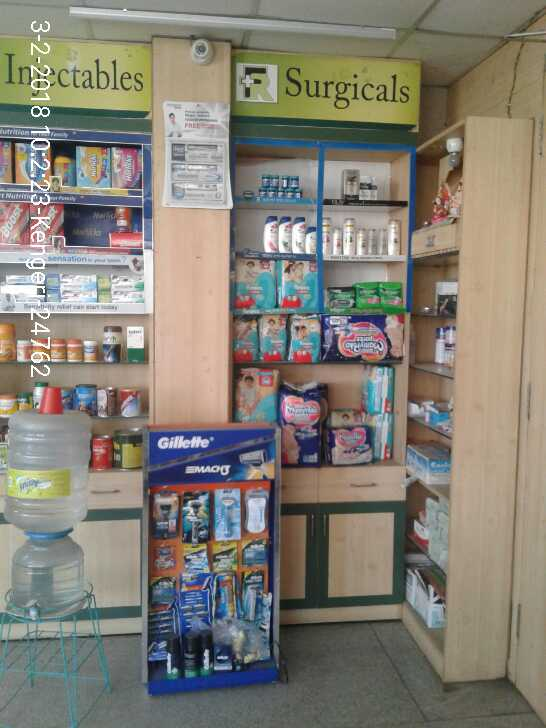beauty: (322, 208, 406, 262), (175, 490, 208, 540), (339, 158, 375, 201), (176, 576, 205, 629), (293, 212, 320, 268), (214, 485, 245, 533), (255, 204, 279, 256), (149, 490, 174, 535), (219, 567, 234, 626), (282, 211, 292, 252)
pharmacy: (274, 254, 317, 313), (235, 257, 275, 313), (255, 170, 309, 200), (229, 320, 259, 369), (289, 314, 319, 359), (257, 315, 281, 368), (322, 276, 354, 312), (355, 276, 377, 307), (376, 279, 403, 303)
